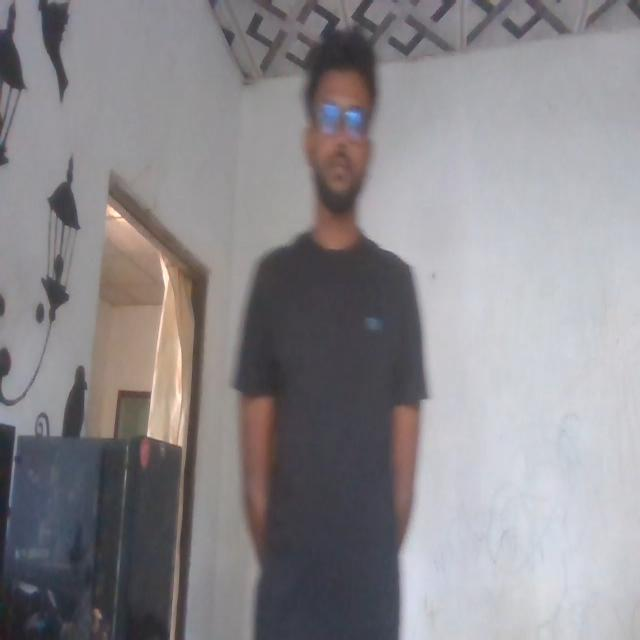Person: (230, 24, 430, 640)
